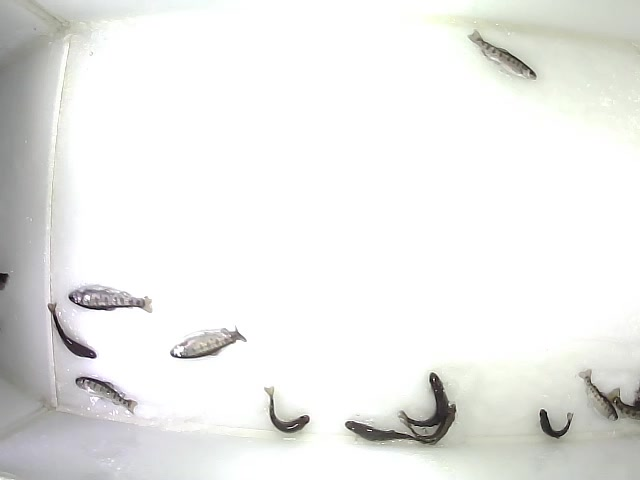fish: (465, 27, 538, 82), (169, 322, 248, 362), (46, 302, 99, 360), (395, 372, 449, 427), (65, 283, 154, 315), (398, 403, 459, 449), (73, 376, 139, 416), (263, 384, 311, 434), (578, 366, 619, 423), (344, 419, 421, 448), (538, 407, 574, 441)
